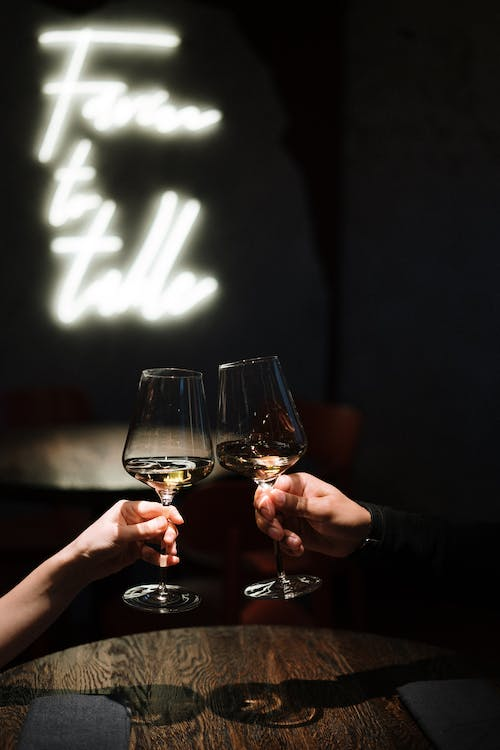alcohol: (212, 354, 325, 603), (120, 364, 217, 615)
